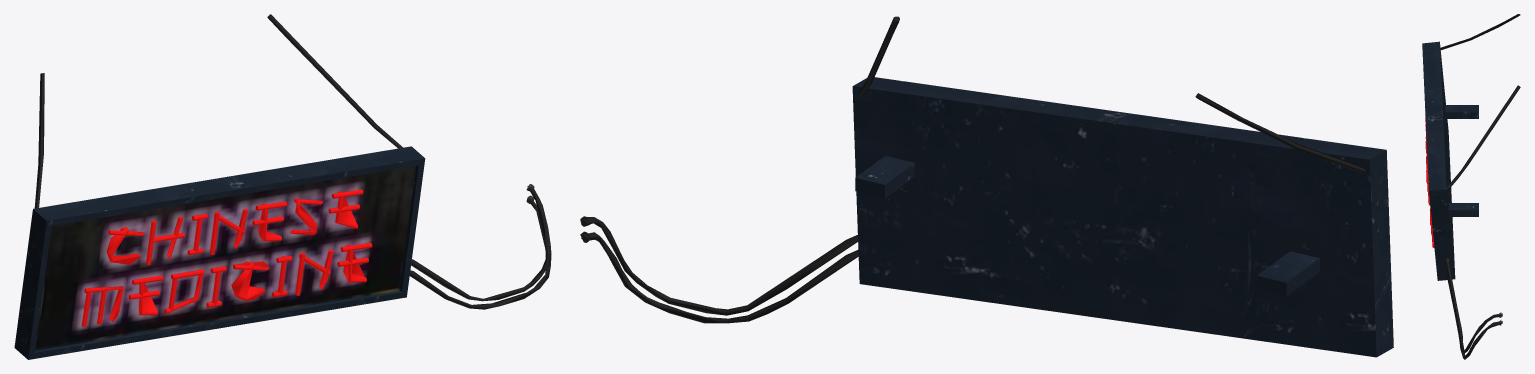
Rendered from KB3D_NEC_BldgSM_C_NeonSignA.glb.
3 renders of one model, left to right at view 1: azimuth 30°, elevation 25°; view 2: azimuth 150°, elevation 25°; view 3: azimuth 270°, elevation 25°, orthographic. The views are drawn at different scales.
Parts seen in each view (by area): view 1: KB3D_NEC_BldgSM_C_NeonSignA; view 2: KB3D_NEC_BldgSM_C_NeonSignA; view 3: KB3D_NEC_BldgSM_C_NeonSignA.
Part boxes in pixels (x1,y1,x2,y2): KB3D_NEC_BldgSM_C_NeonSignA: (14, 14, 551, 359); KB3D_NEC_BldgSM_C_NeonSignA: (580, 16, 1393, 357); KB3D_NEC_BldgSM_C_NeonSignA: (1422, 14, 1520, 359).
Bounding box in the file's own units: 3.73 × 1.95 × 0.8553.
5 materials, 3 textured.
